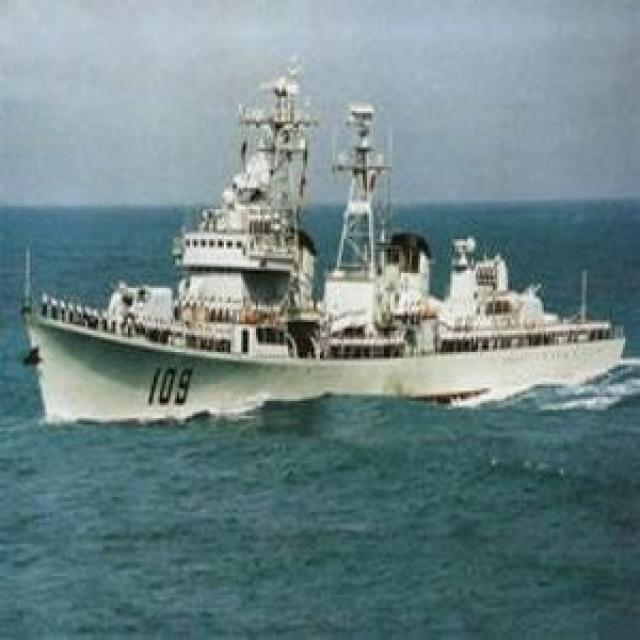navalvessels: (14, 69, 635, 422)
